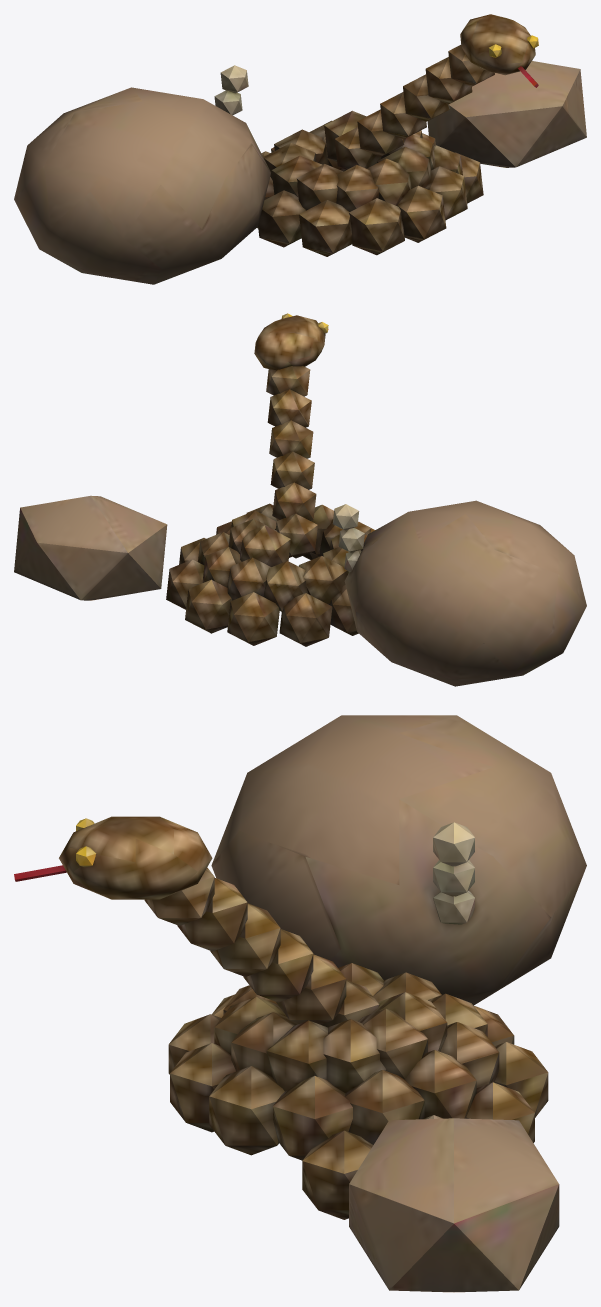
File: serpiente.glb
3 views of the same model, one above another, from view 1: azimuth 30°, elevation 25°; view 2: azimuth 150°, elevation 25°; view 3: azimuth 270°, elevation 25° (orthographic). The views are drawn at different scales.
Parts seen in each view (by area): view 1: serpiente; view 2: serpiente; view 3: serpiente.
Boxes of the visible parts, x1,y1,x2,y2 form: serpiente: [14, 14, 586, 284]; serpiente: [14, 313, 586, 686]; serpiente: [14, 715, 586, 1292].
Bounding box in the file's own units: 1.86 × 0.78 × 1.04.
Materials: 1 (1 with a texture image).
